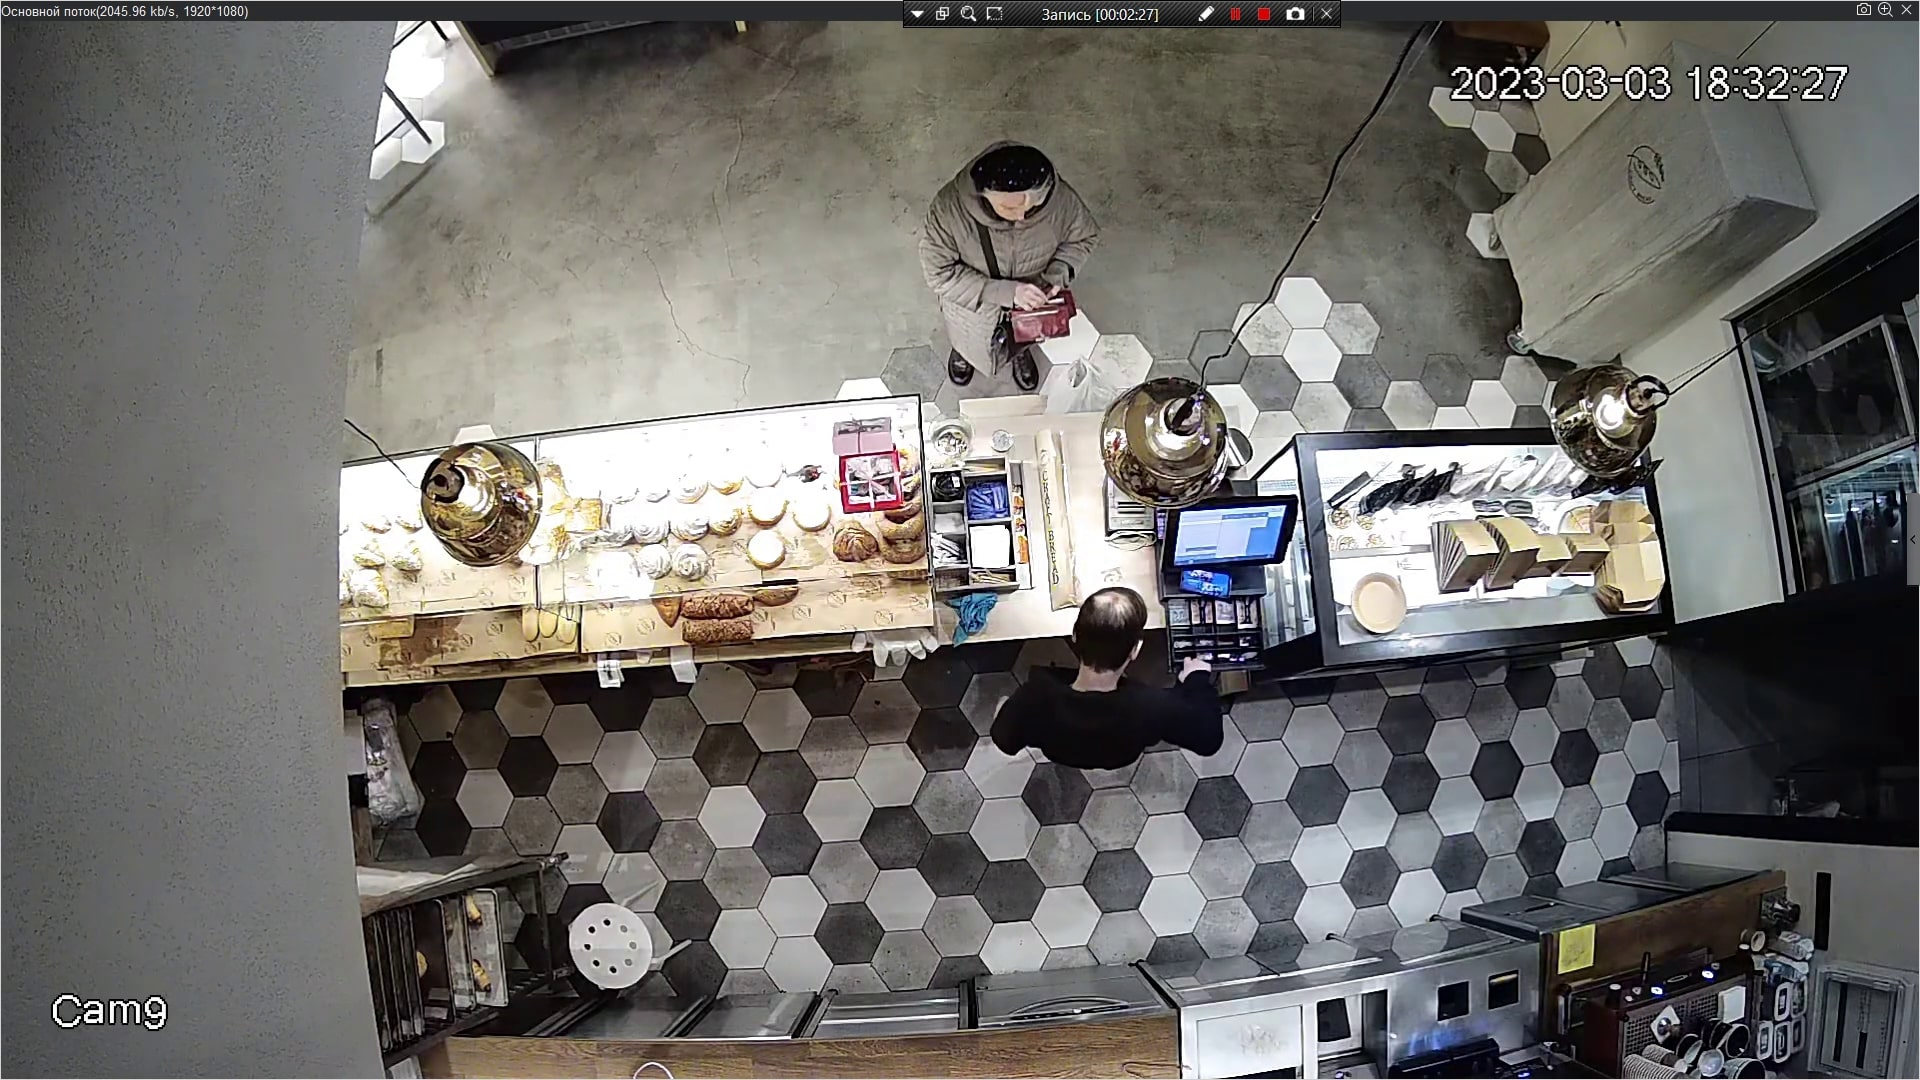barcounter: (343, 436, 1696, 693)
openedcash: (1162, 491, 1296, 696)
pack: (1027, 425, 1084, 609)
person: (912, 148, 1100, 389)
